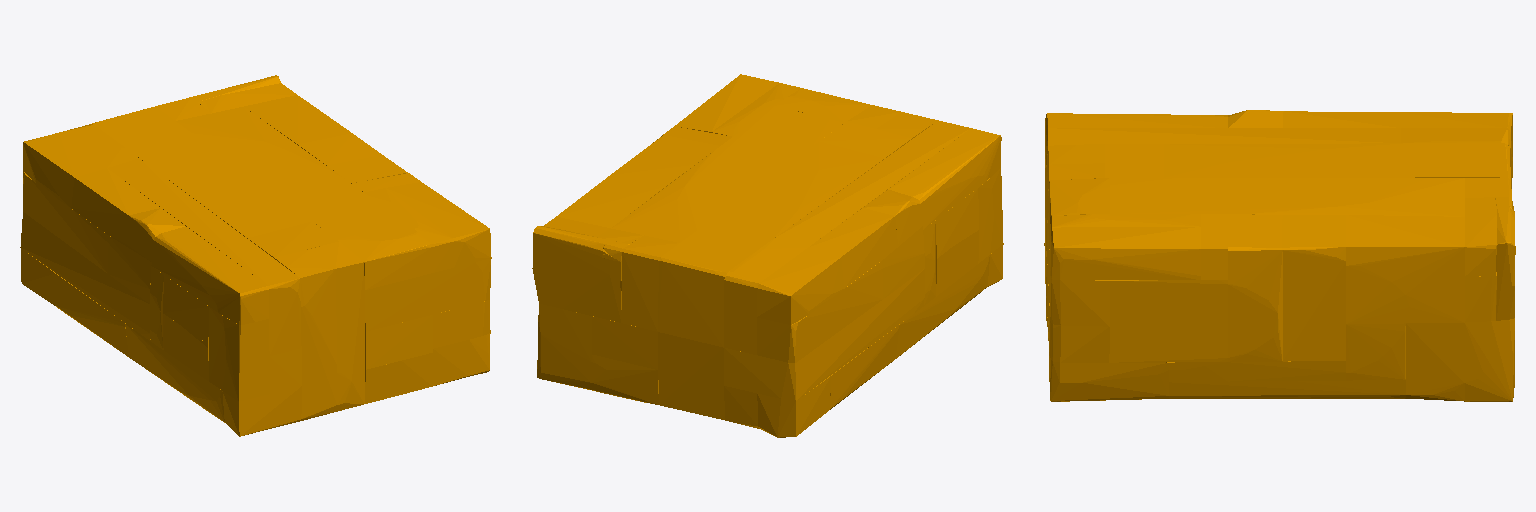
URDF robot description (box-antikalk):
<?xml version="1.0" ?>
<robot name="box-antikalk">
  <link name="baseLink">
    <contact>
      <lateral_friction value="1.0"/>
      <inertia_scaling value="3.0"/>
    </contact>
    <inertial>
      <origin rpy="0 0 0" xyz="0.000 0.000 0.000"/>
       <mass value=".1"/>
       <inertia ixx="1" ixy="0.0" ixz="0.0" iyy="1" iyz="0.0" izz="1"/>
    </inertial>
    <visual>
      <origin rpy="0 0 0" xyz="0 0 0"/>
      <geometry>
        <mesh filename="box/box-antikalk.obj" scale="1.0 1.0 1.0"/>
      </geometry>
    </visual>
    <collision>
      <origin rpy="0 0 0" xyz="0 0 0"/>
      <geometry>
        <mesh filename="../collision/box/box-antikalk.obj" scale="1.0 1.0 1.0"/>
      </geometry>
    </collision>
  </link>
</robot>
        

--- Facts derived from the render (not from the file) ---
The picture shows the robot from 3 angles, left to right: view 1: azimuth 30°, elevation 25°; view 2: azimuth 150°, elevation 25°; view 3: azimuth 270°, elevation 25°; orthographic projection.
Robot: box-antikalk — 1 links, 0 joints (none); root link baseLink; default pose: every joint at zero.
Visible links, largest first — view 1: baseLink; view 2: baseLink; view 3: baseLink.
Link boxes in pixels (x1,y1,x2,y2): baseLink: [20, 75, 491, 436]; baseLink: [532, 74, 1003, 437]; baseLink: [1044, 110, 1515, 401].
Bounding box of the posed robot: 0.1466 × 0.2048 × 0.0785 m (x, y, z).
1 mesh visuals loaded from 1 distinct referenced files (1 OBJ).